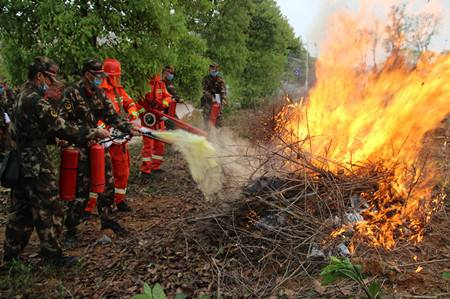fire: (286, 4, 448, 228)
